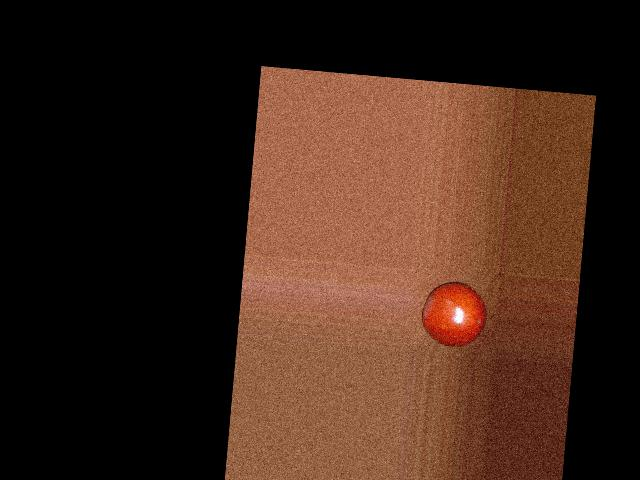tomato: (419, 279, 489, 350)
